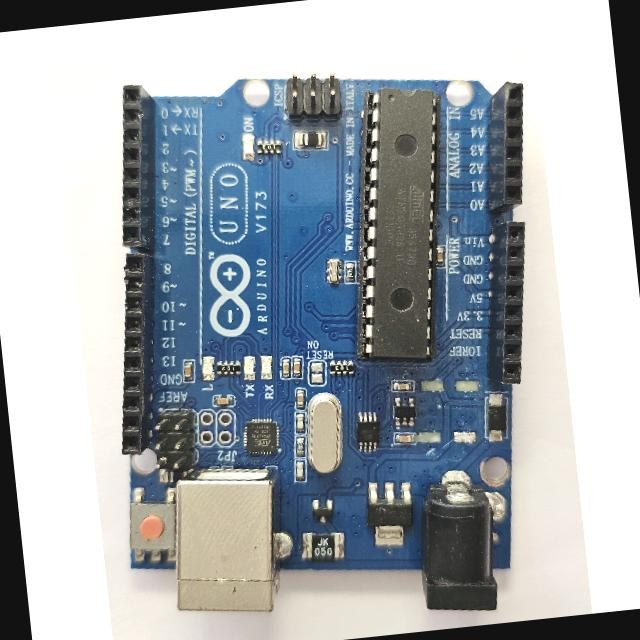missing_capacitors: (416, 371, 482, 447)
